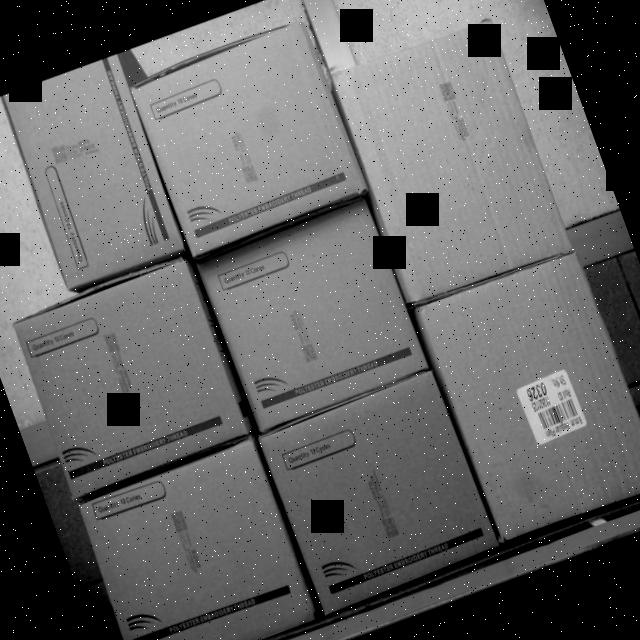box: (326, 17, 572, 302), (416, 247, 640, 546), (252, 370, 504, 620), (11, 257, 249, 498), (195, 197, 432, 436), (131, 26, 368, 253), (71, 437, 324, 640), (0, 55, 184, 294)
